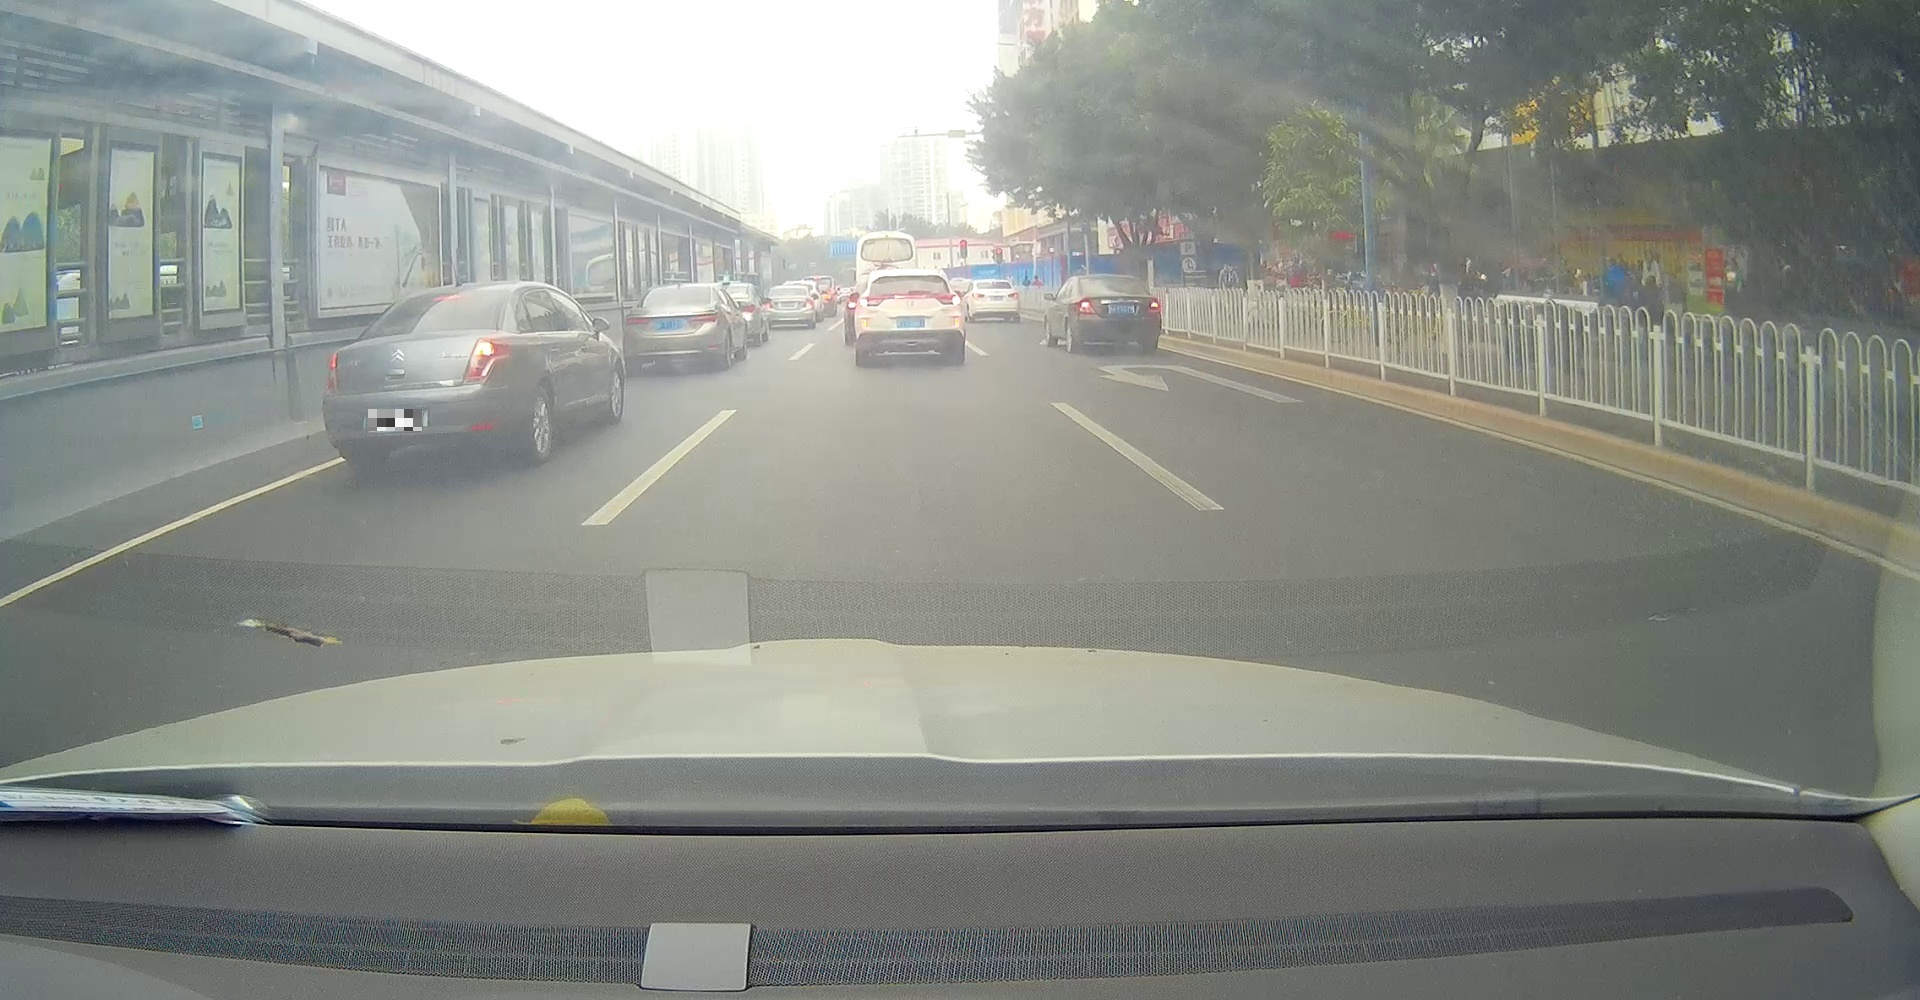L_light: (325, 352, 337, 391), (858, 296, 883, 306), (1079, 299, 1096, 313), (626, 316, 650, 324), (971, 293, 983, 298)
R_light: (463, 338, 502, 379), (935, 294, 960, 305), (688, 313, 714, 321), (1147, 299, 1159, 312), (1008, 293, 1018, 298)
T_light: (436, 294, 462, 299), (897, 294, 923, 299), (1103, 277, 1116, 280), (672, 289, 690, 292), (990, 283, 998, 284)
day-brake: (323, 286, 512, 475), (855, 269, 964, 365)
day-no: (623, 286, 717, 374), (1076, 275, 1161, 354), (971, 280, 1018, 324)
plate_1: (368, 409, 422, 431)
